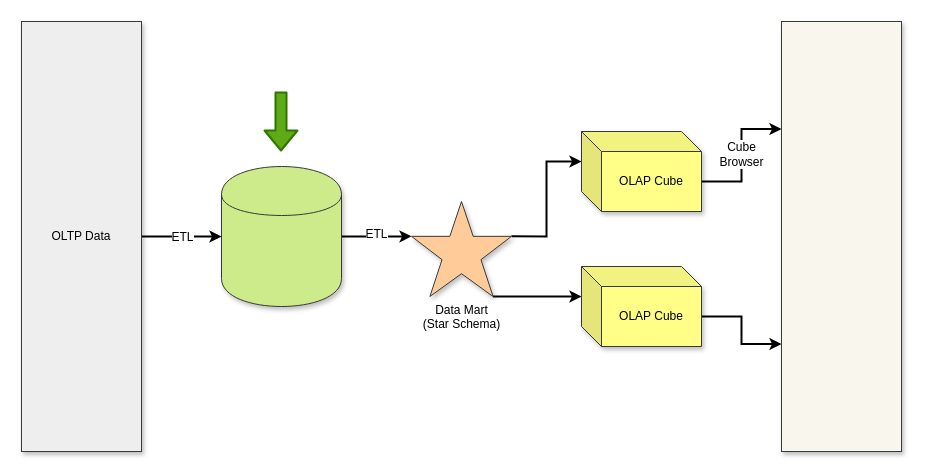
Image size: 925x476. Some labels were removed from this diagram. The centre of each missing label's shape, as x and y in pixels:
"Data Warehouse (3NF)" belongs at [282,238].
"Reporting" belongs at [842,237].
